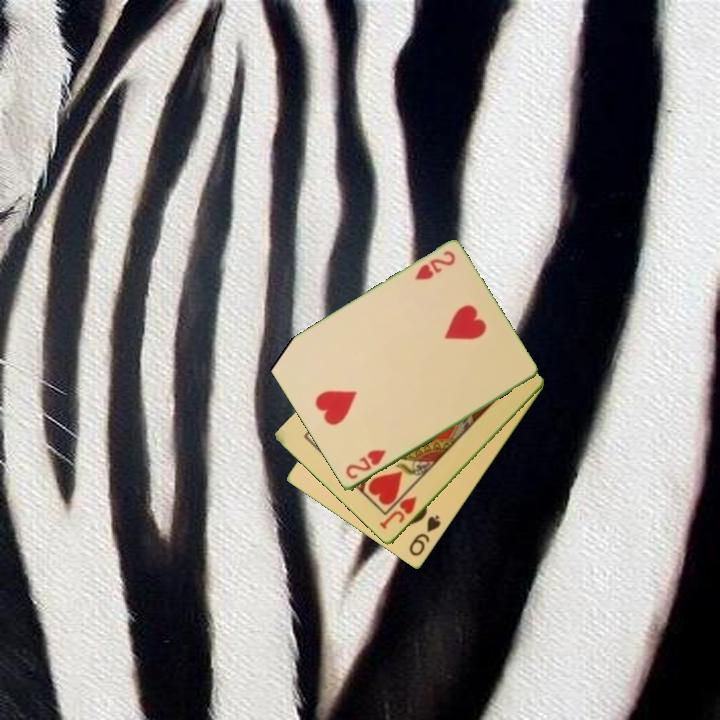2h: (342, 446, 389, 483), (411, 248, 458, 283)
9s: (405, 512, 444, 560)
Jh: (376, 493, 420, 533)
